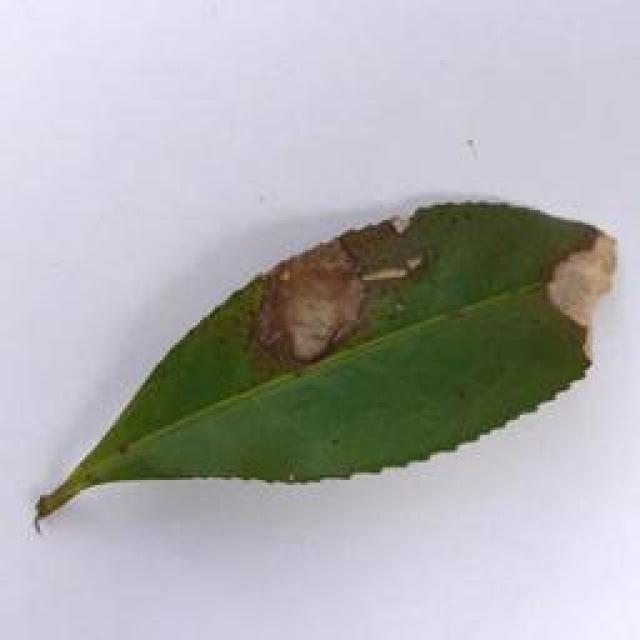Gray Blight: (36, 196, 610, 531)
